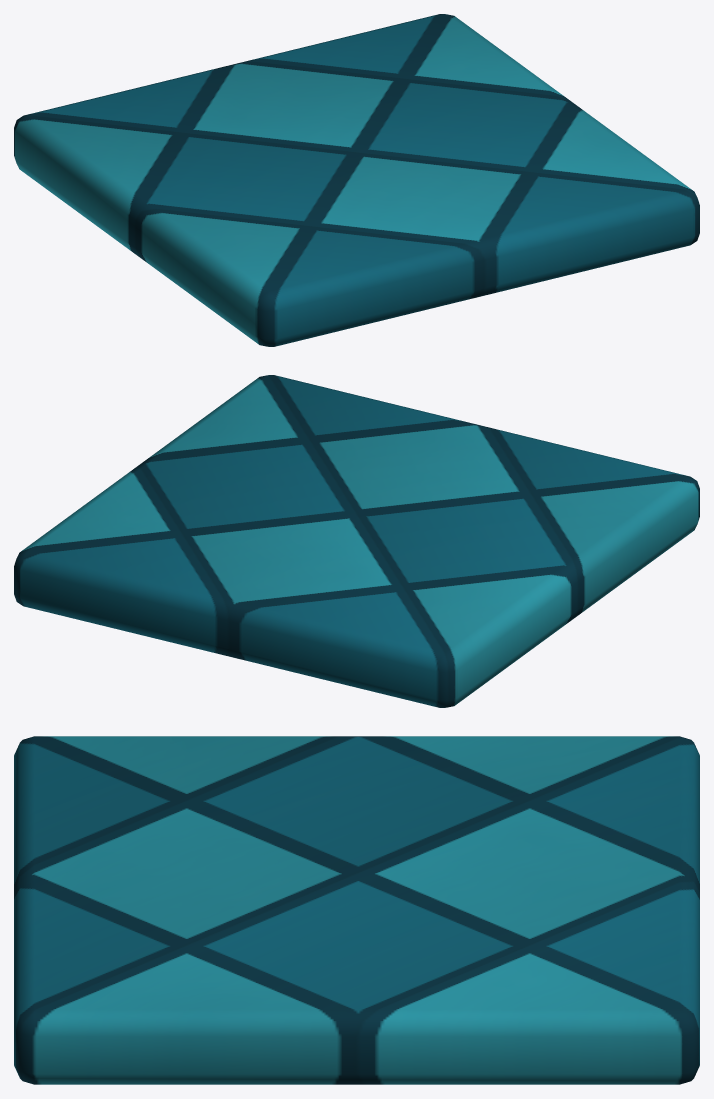
File: floor.glb
3 views of the same model, one above another, from view 1: azimuth 30°, elevation 25°; view 2: azimuth 150°, elevation 25°; view 3: azimuth 270°, elevation 25° (orthographic). The views are drawn at different scales.
Visible parts, largest first — view 1: floor; view 2: floor; view 3: floor.
Boxes of the visible parts, x1,y1,x2,y2 form: floor: (14, 14, 699, 346); floor: (14, 375, 699, 707); floor: (14, 736, 699, 1084).
Bounding box in the file's own units: 1 × 0.12 × 1.
1 material, 1 textured.
